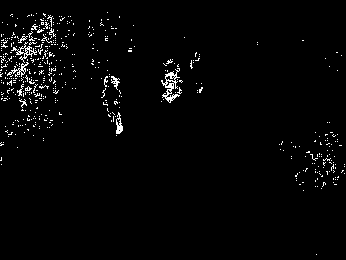person: (101, 75, 128, 137)
